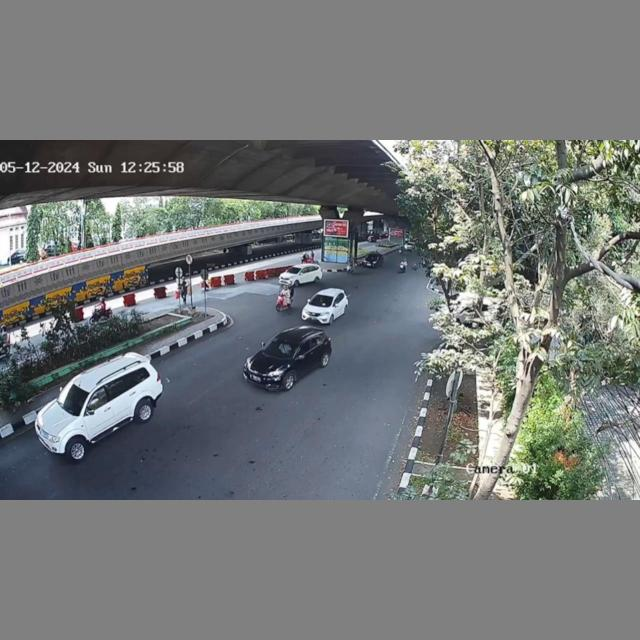windshield: (264, 336, 300, 361), (307, 294, 336, 307)
